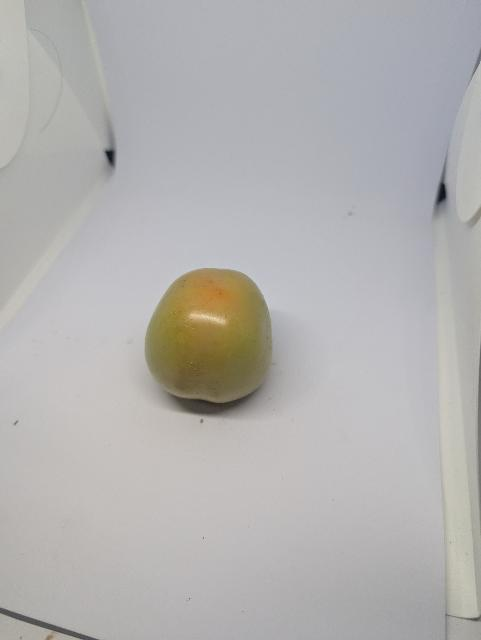breaker: (144, 266, 278, 411)
